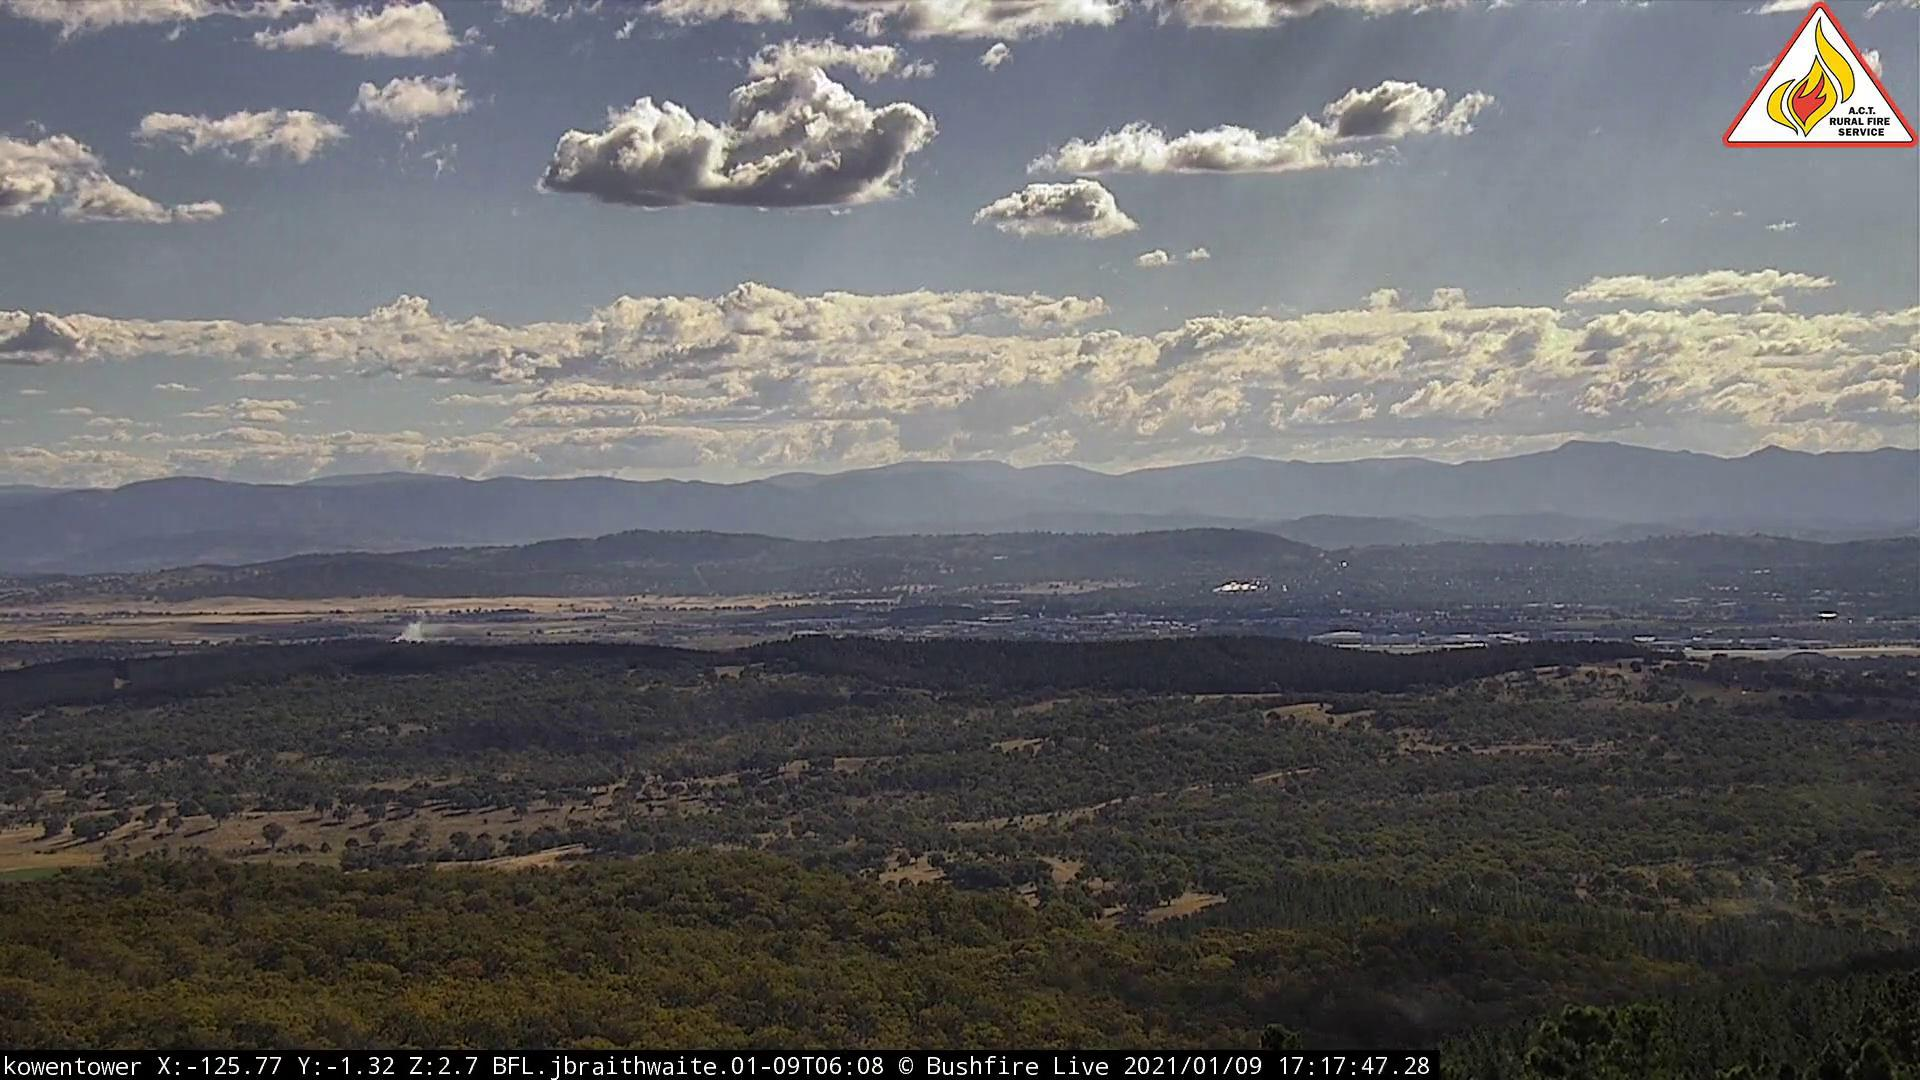Smoke: (388, 607, 452, 658)
